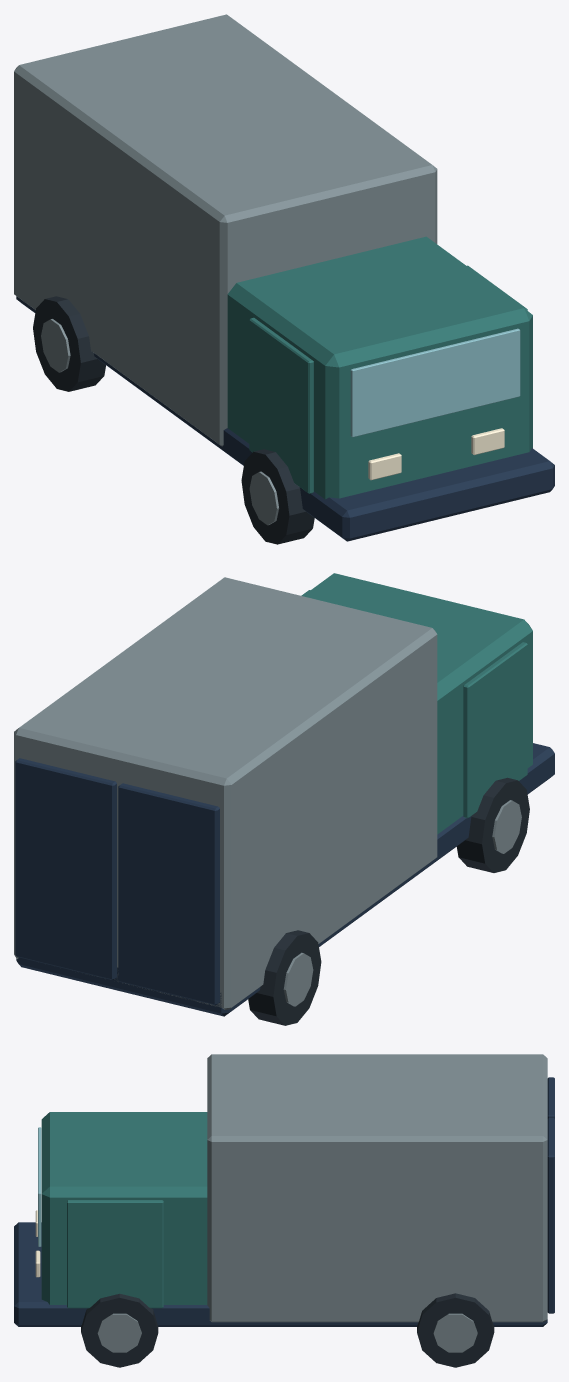
The model's file is Vehicle_ArmoredTruck.fbx.
The picture shows the model from 3 angles, top to bottom: view 1: azimuth 30°, elevation 25°; view 2: azimuth 150°, elevation 25°; view 3: azimuth 270°, elevation 25°; orthographic projection. The views are drawn at different scales.
Parts seen in each view (by area): view 1: CargoVault, Cab, Chassis, Windshield, DoorPanel, Tire, Tire.001, Hub, Hub.001, Headlight.010, Headlight.011; view 2: CargoVault, RearDoor.001, RearDoor, Cab, DoorPanel, Chassis, Tire, Tire.001, Hub.001, Hub; view 3: CargoVault, Cab, DoorPanel.001, Chassis, Tire.003, Tire.002, RearDoor.001, Hub.003, Hub.002, Windshield.
Part boxes in pixels (box(x1,y1,x2,y2)): CargoVault: box(14, 14, 437, 446); Cab: box(227, 236, 532, 499); Chassis: box(16, 296, 554, 541); Windshield: box(350, 328, 520, 437); DoorPanel: box(249, 317, 313, 493); Tire: box(241, 449, 314, 544); Tire.001: box(33, 296, 105, 391); Hub: box(249, 471, 278, 525); Hub.001: box(41, 319, 70, 372); Headlight.010: box(368, 453, 401, 480); Headlight.011: box(471, 428, 504, 455); CargoVault: box(14, 577, 437, 1009); RearDoor.001: box(15, 758, 116, 980); RearDoor: box(118, 783, 219, 1005); Cab: box(303, 573, 532, 834); DoorPanel: box(463, 642, 527, 818); Chassis: box(16, 743, 554, 1016); Tire: box(456, 777, 529, 872); Tire.001: box(248, 930, 321, 1025); Hub.001: box(283, 952, 313, 1006); Hub: box(492, 800, 521, 853); CargoVault: box(207, 1054, 547, 1322); Cab: box(41, 1112, 207, 1304); DoorPanel.001: box(67, 1200, 163, 1308); Chassis: box(14, 1222, 547, 1326); Tire.003: box(417, 1293, 494, 1367); Tire.002: box(81, 1293, 158, 1367); RearDoor.001: box(547, 1117, 554, 1313); Hub.003: box(433, 1313, 477, 1352); Hub.002: box(97, 1313, 141, 1352); Windshield: box(38, 1127, 41, 1246).
Size of the model in its own units: 2.48 by 2.71 by 5.88.
